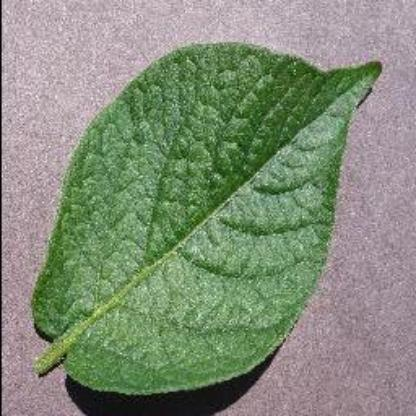Healthy-plant: (31, 41, 384, 395)
